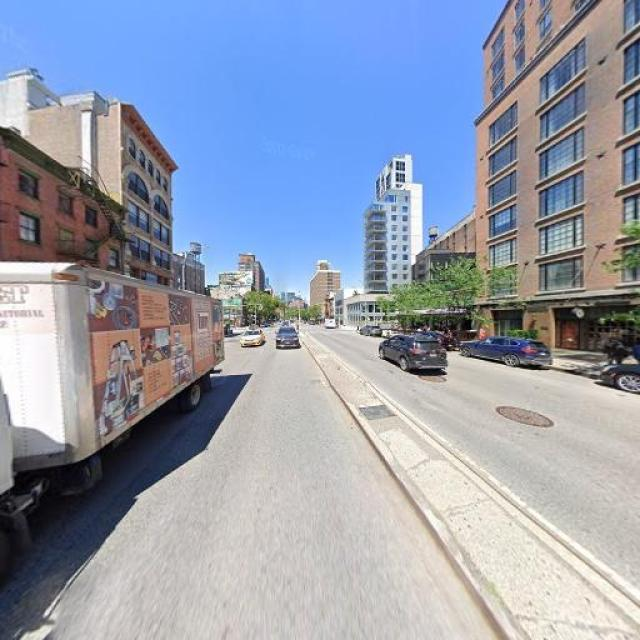Building: (475, 1, 640, 367), (1, 122, 119, 367), (124, 104, 169, 347), (173, 253, 202, 338)
